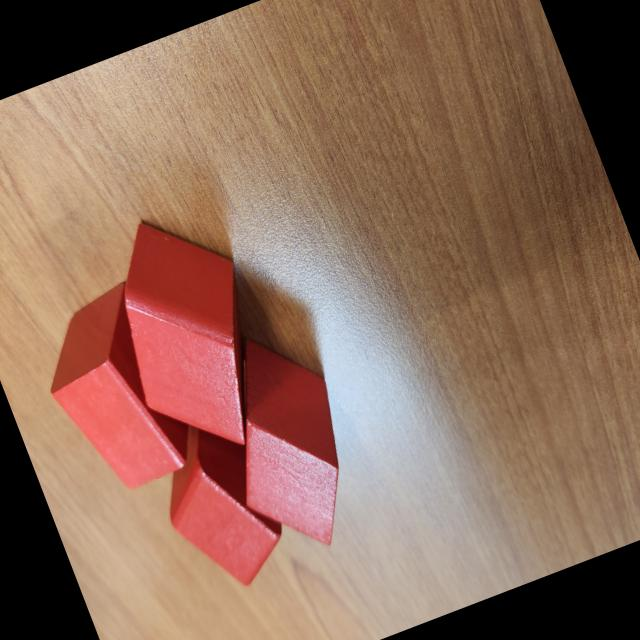red: (84, 196, 298, 474), (188, 316, 381, 570), (22, 278, 204, 505), (140, 402, 302, 604)
